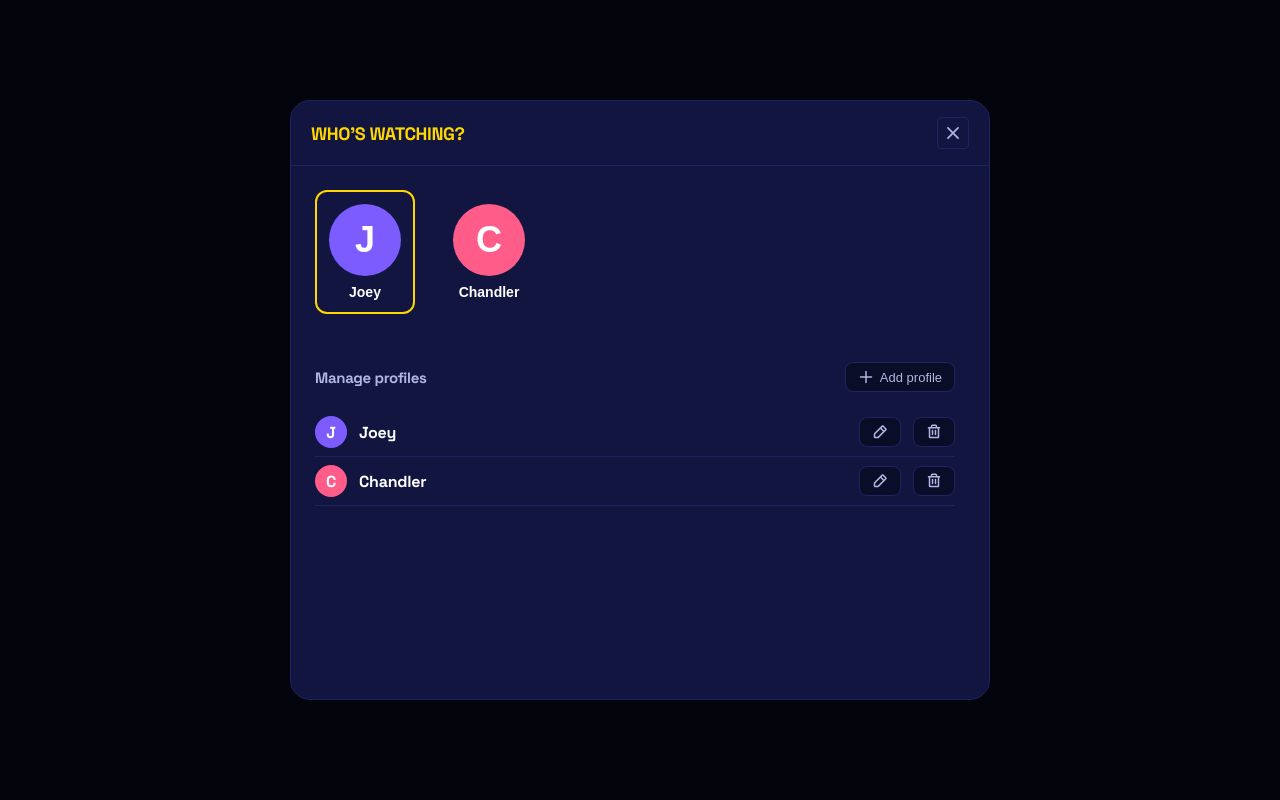
Test case: ProfilePage › clears a stale error once a later action succeeds
This screenshot has width=1280, height=800.
Failing action: delete rejects, error becomes visible.
Click the button named "delete chandler" at (934,481), box [913,466,955,496]
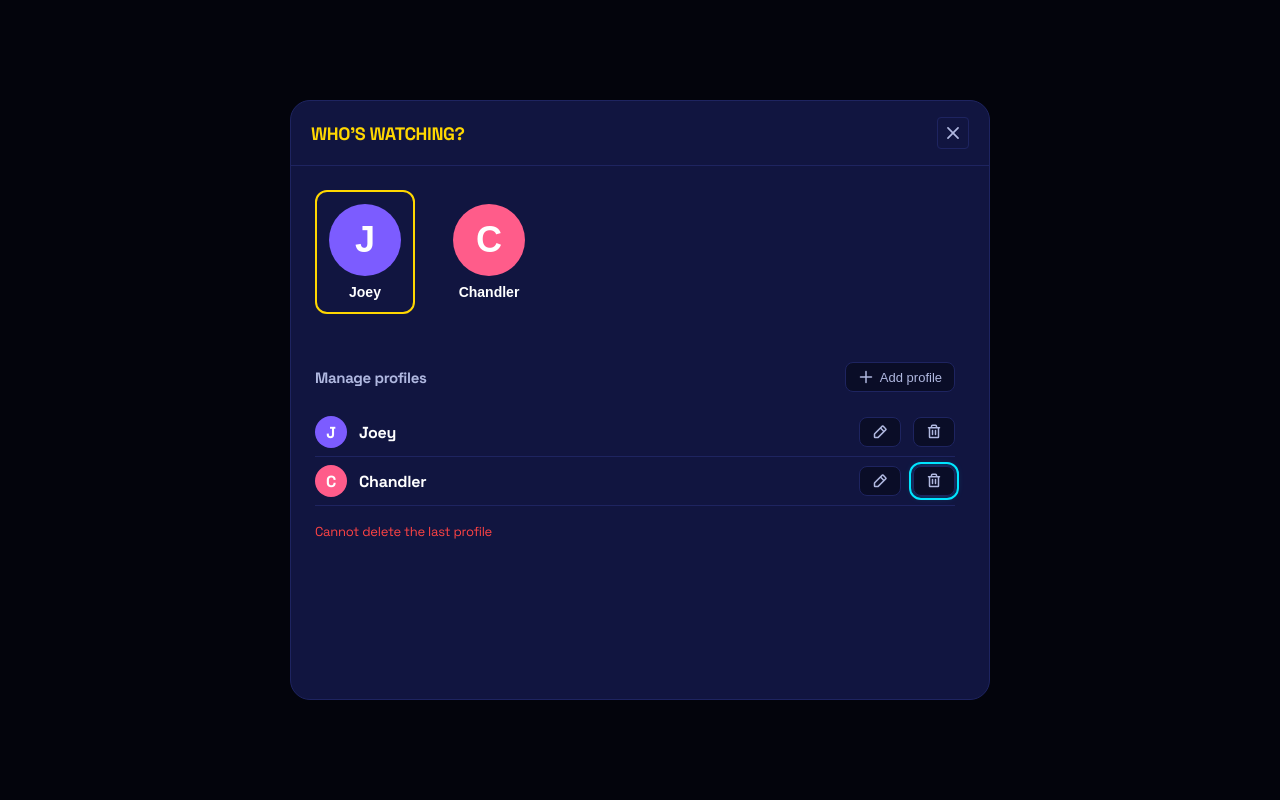
expect the text "Cannot delete the last profile" is shown: met, box [315,523,492,540]
Click the button "C Chandler" at (489,252), box [439,190,539,314]
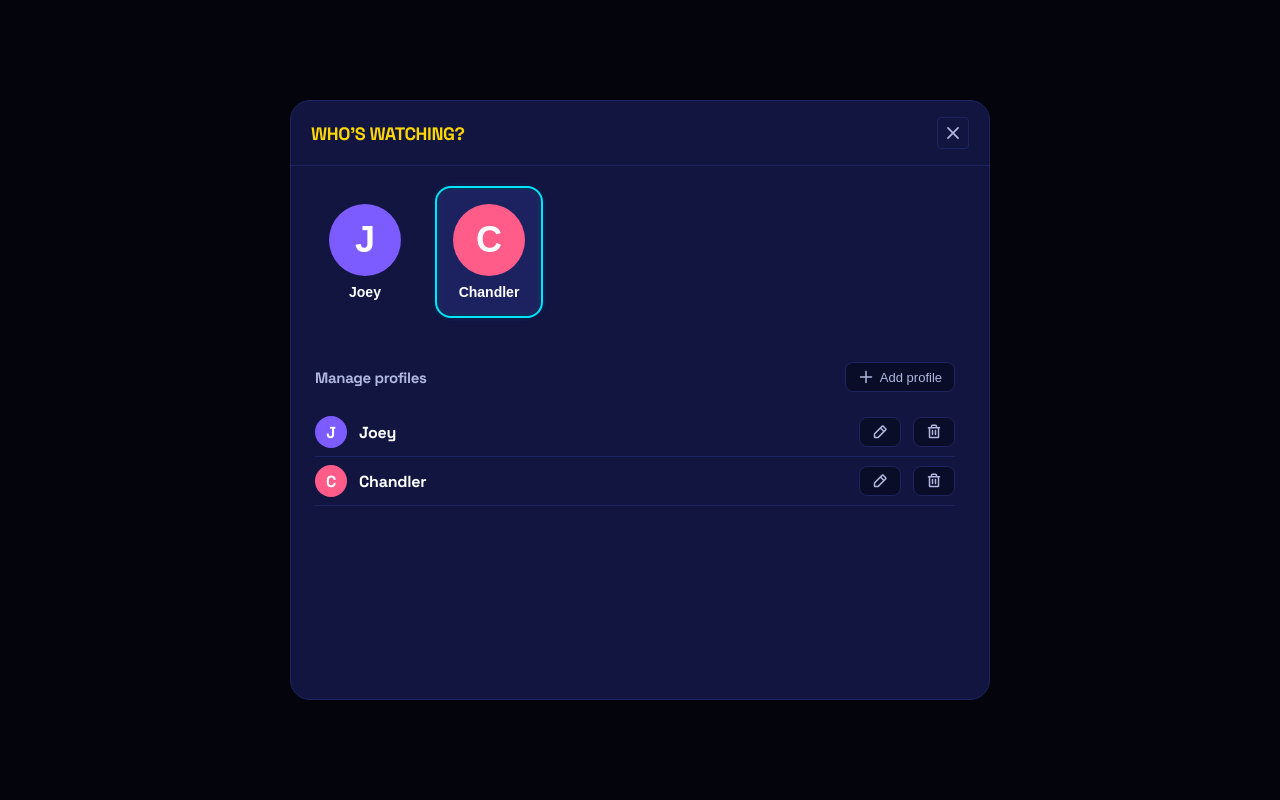
expect the text "Cannot delete the last profile" is gone: met
